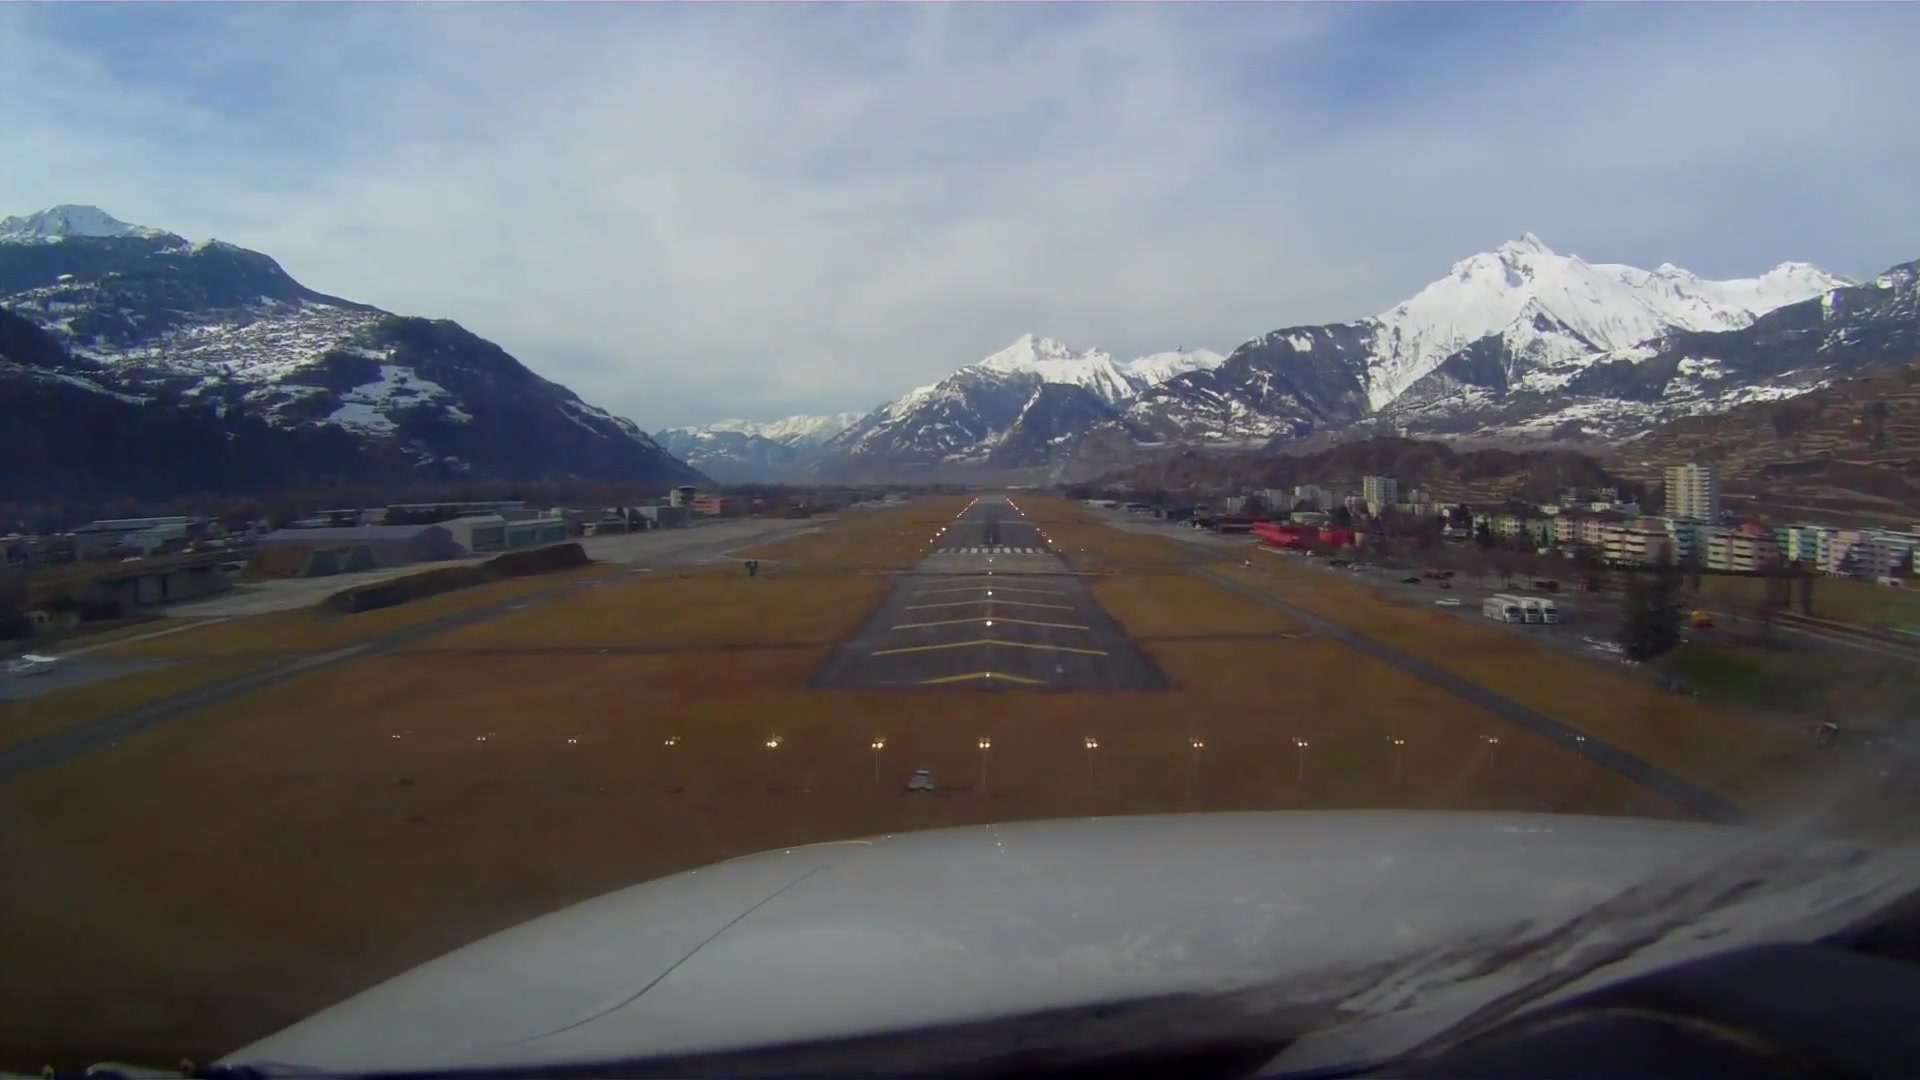entrance: (935, 545, 1055, 560)
runway: (920, 489, 1062, 566)
